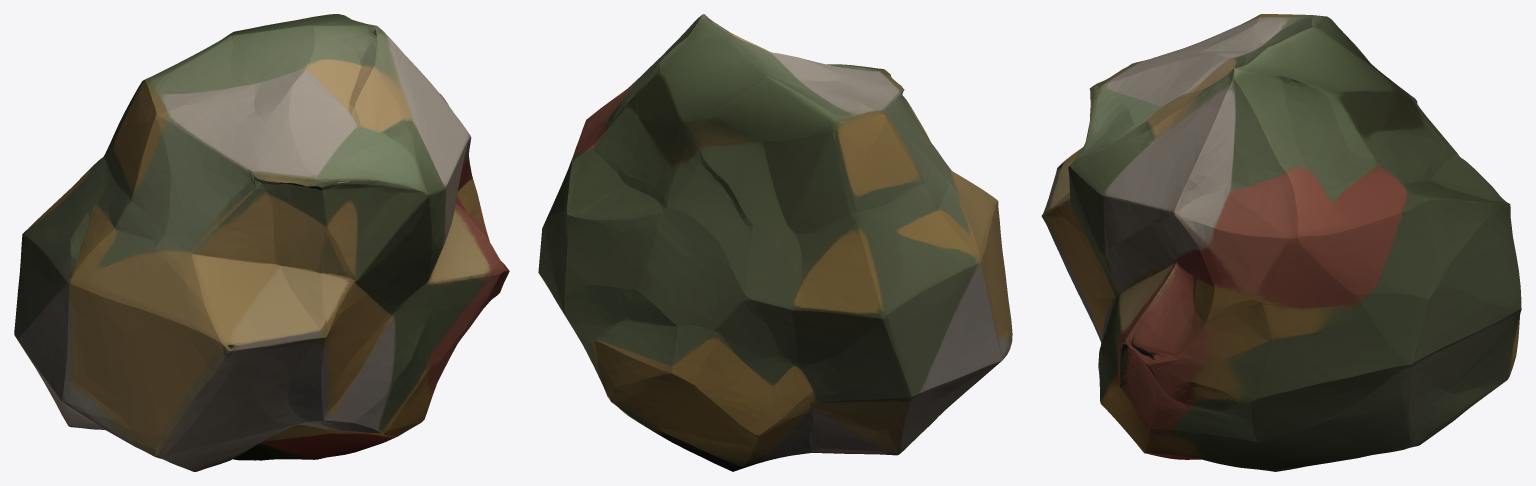
Rendered from rock.glb.
3 renders of one model, left to right at view 1: azimuth 30°, elevation 25°; view 2: azimuth 150°, elevation 25°; view 3: azimuth 270°, elevation 25°, orthographic. The views are drawn at different scales.
Parts seen in each view (by area): view 1: world; view 2: world; view 3: world.
Boxes of the visible parts, x1,y1,x2,y2 form: world: [14, 14, 509, 471]; world: [538, 14, 1012, 471]; world: [1041, 14, 1521, 471].
Bounding box in the file's own units: 0.703 × 0.6673 × 0.665.
Materials: 1 (1 with a texture image).
